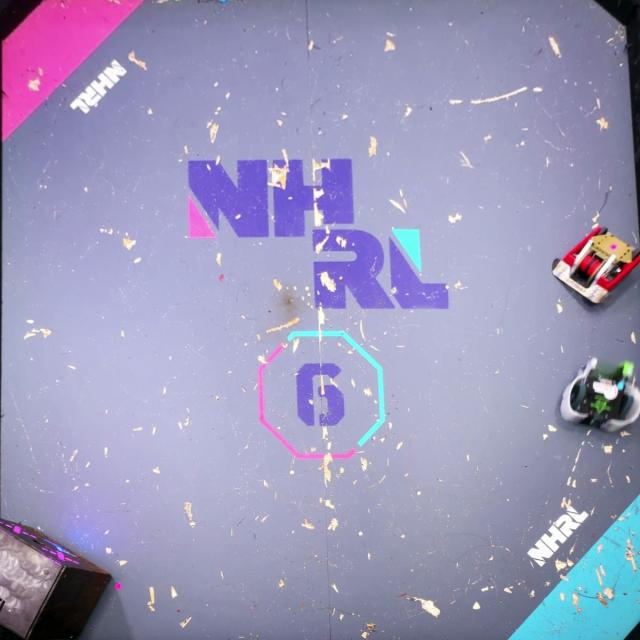housebot: (0, 514, 110, 640)
robot: (552, 224, 640, 308), (561, 357, 640, 434)
